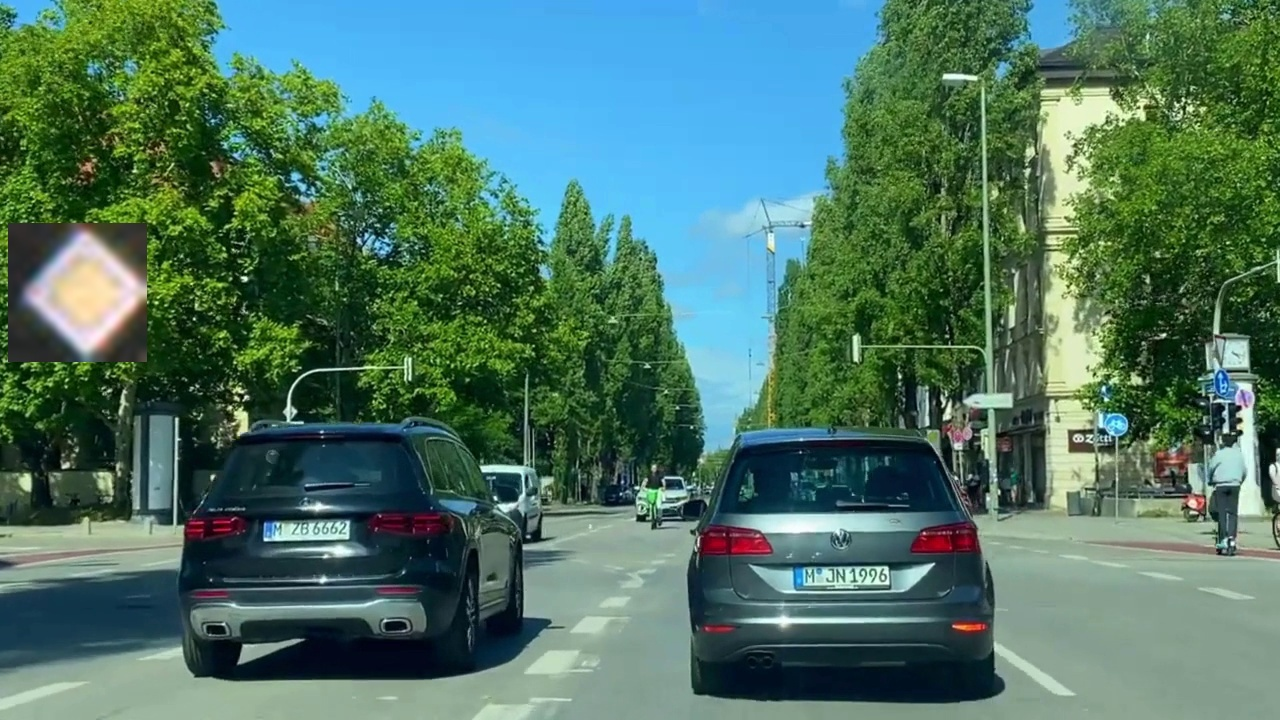Priority road: (8, 223, 147, 362)
